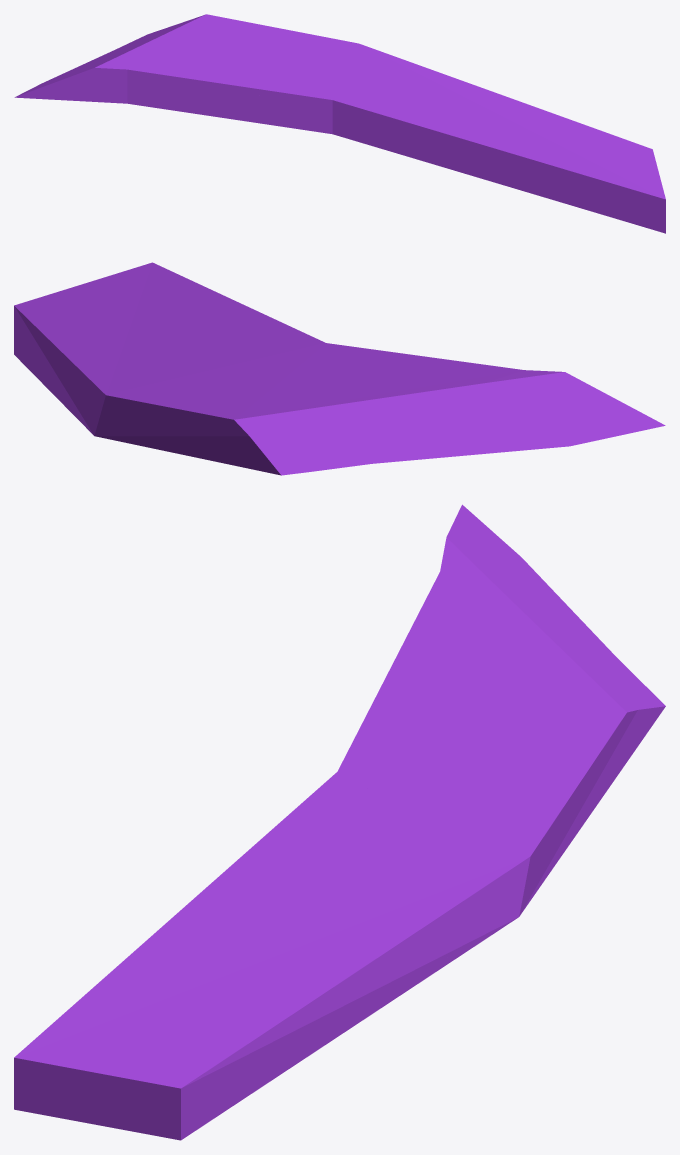
The model's file is Glass_101_1_1_chunks.fbx.
3 views of the same model, one above another, from view 1: azimuth 30°, elevation 25°; view 2: azimuth 150°, elevation 25°; view 3: azimuth 270°, elevation 25° (orthographic). The views are drawn at different scales.
Visible parts, largest first — view 1: Glass_101_1_1_1, Glass_101_1_1_2, Glass_101_1_1_0, Glass_101_1_1_3; view 2: Glass_101_1_1_2, Glass_101_1_1_1, Glass_101_1_1_0, Glass_101_1_1_3; view 3: Glass_101_1_1_1, Glass_101_1_1_0, Glass_101_1_1_2, Glass_101_1_1_3.
Part boxes in pixels (x1,y1,x2,y2): Glass_101_1_1_1: (278,76,665,233); Glass_101_1_1_2: (14,25,280,125); Glass_101_1_1_0: (146,14,450,78); Glass_101_1_1_3: (253,66,350,118); Glass_101_1_1_2: (289,353,665,474); Glass_101_1_1_1: (14,262,315,419); Glass_101_1_1_0: (76,362,316,475); Glass_101_1_1_3: (262,338,402,373); Glass_101_1_1_1: (14,787,451,1140); Glass_101_1_1_0: (410,675,665,960); Glass_101_1_1_2: (377,504,661,726); Glass_101_1_1_3: (320,694,451,788).
Bounding box in the file's own units: 747 × 218 × 508.
